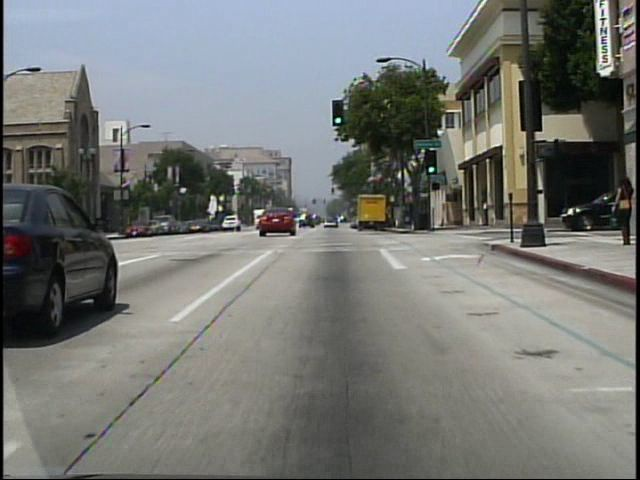person: (610, 177, 634, 250), (480, 197, 490, 230)
